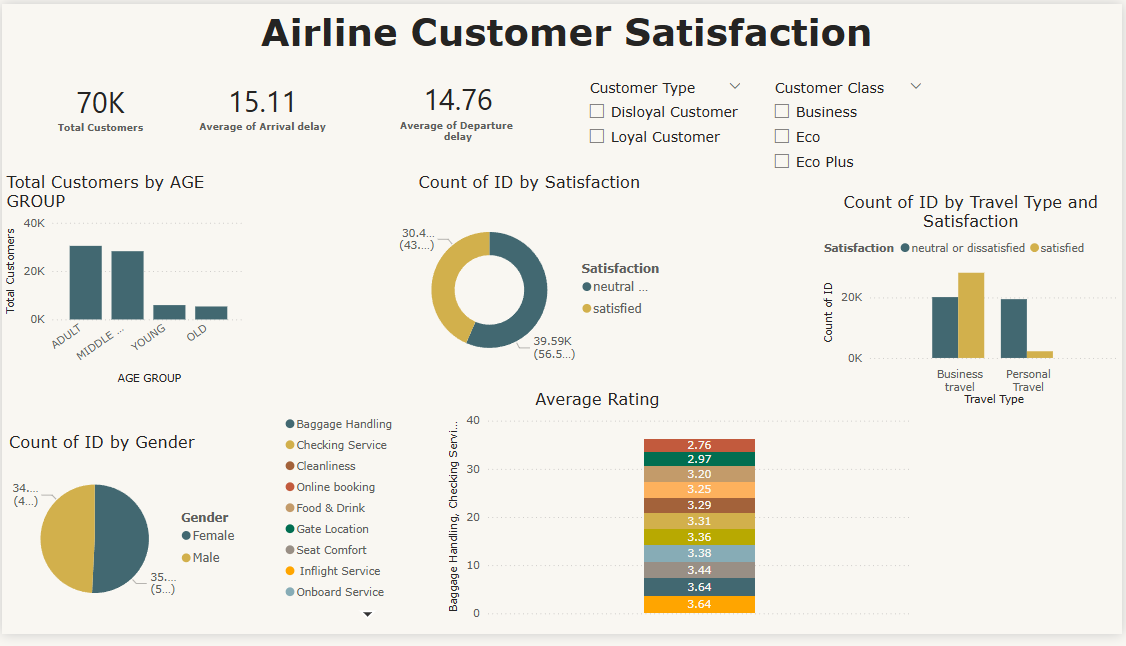

What the dashboard file says about the page in this screenshot:
{"tool":"powerbi","page":{"name":"Page 3","canvas":[1280,720],"ordinal":0},"visuals":[{"type":"textbox","box":[9.6,0,1270.7,68.6],"z":0},{"type":"card","fields":{"Values":["airline_passenger_satisfaction_fff.Total Customers"]},"box":[50.9,69.4,122.6,96],"z":1000},{"type":"card","fields":{"Values":["Avg(airline_passenger_satisfaction_fff.arrival_delay_in_minutes)"]},"box":[204.7,56.7,187.4,120.3],"z":2000},{"type":"card","fields":{"Values":["Avg(airline_passenger_satisfaction_fff.departure_delay_in_minutes)"]},"box":[432.6,54.4,177,122.6],"z":3000},{"type":"columnChart","fields":{"Category":["airline_passenger_satisfaction_fff.AGE GROUP"],"Y":["airline_passenger_satisfaction_fff.Total Customers"]},"box":[0,190.9,283.4,248.7],"z":4000},{"type":"donutChart","fields":{"Category":["airline_passenger_satisfaction_fff.Satisfaction"],"Y":["CountNonNull(airline_passenger_satisfaction_fff.ID)"]},"box":[446.5,190.9,311.2,248.7],"z":5000},{"type":"clusteredColumnChart","fields":{"Category":["airline_passenger_satisfaction_fff.Travel Type"],"Y":["CountNonNull(airline_passenger_satisfaction_fff.ID)"],"Series":["airline_passenger_satisfaction_fff.Satisfaction"]},"box":[934.6,214,345.9,249.8],"z":6000},{"type":"pieChart","fields":{"Category":["airline_passenger_satisfaction_fff.Gender"],"Y":["CountNonNull(airline_passenger_satisfaction_fff.ID)"]},"box":[3.5,488.1,277.6,223.2],"z":7000},{"type":"columnChart","title":"Average Rating","fields":{"Y":["Avg(airline_passenger_satisfaction_fff.Baggage Handling)","Avg(airline_passenger_satisfaction_fff.Checkin Service)","Avg(airline_passenger_satisfaction_fff.Cleanliness)","Avg(airline_passenger_satisfaction_fff.Ease of online booking)","Avg(airline_passenger_satisfaction_fff.Food & Drink)","Avg(airline_passenger_satisfaction_fff.Gate Location)","Avg(airline_passenger_satisfaction_fff.Seat Comfort)","Avg(airline_passenger_satisfaction_fff.Inflight Service)","Avg(airline_passenger_satisfaction_fff.Onboard Service)","Avg(airline_passenger_satisfaction_fff.Inflight Entertainment)","Avg(airline_passenger_satisfaction_fff.Online Boarding)"]},"box":[318.1,440.7,724.1,270.7],"z":8000},{"type":"slicer","fields":{"Values":["airline_passenger_satisfaction_fff.Customer Class"]},"box":[869.8,81,193.2,120.3],"z":9000},{"type":"slicer","fields":{"Values":["airline_passenger_satisfaction_fff.Customer Type"]},"box":[658.2,81,197.8,96],"z":10000}]}

Visuals, with their boxes in screenshot pixels (x1, y1, x2, y2), scaled from the page's 1280x720 canvas onto the 1126x646 screenshot:
textbox: [left=8, top=0, right=1125, bottom=62]
card - airline_passenger_satisfaction_fff.Total Customers: [left=45, top=62, right=153, bottom=148]
card - Avg(airline_passenger_satisfaction_fff.arrival_delay_in_minutes): [left=180, top=51, right=345, bottom=159]
card - Avg(airline_passenger_satisfaction_fff.departure_delay_in_minutes): [left=381, top=49, right=536, bottom=159]
columnChart - airline_passenger_satisfaction_fff.AGE GROUP x airline_passenger_satisfaction_fff.Total Customers: [left=0, top=171, right=249, bottom=394]
donutChart - airline_passenger_satisfaction_fff.Satisfaction x CountNonNull(airline_passenger_satisfaction_fff.ID): [left=393, top=171, right=667, bottom=394]
clusteredColumnChart - airline_passenger_satisfaction_fff.Travel Type x CountNonNull(airline_passenger_satisfaction_fff.ID): [left=822, top=192, right=1125, bottom=416]
pieChart - airline_passenger_satisfaction_fff.Gender x CountNonNull(airline_passenger_satisfaction_fff.ID): [left=3, top=438, right=247, bottom=638]
"Average Rating" columnChart: [left=280, top=395, right=917, bottom=638]
slicer - airline_passenger_satisfaction_fff.Customer Class: [left=765, top=73, right=935, bottom=181]
slicer - airline_passenger_satisfaction_fff.Customer Type: [left=579, top=73, right=753, bottom=159]
